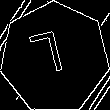L_S: (34, 29, 76, 86)
